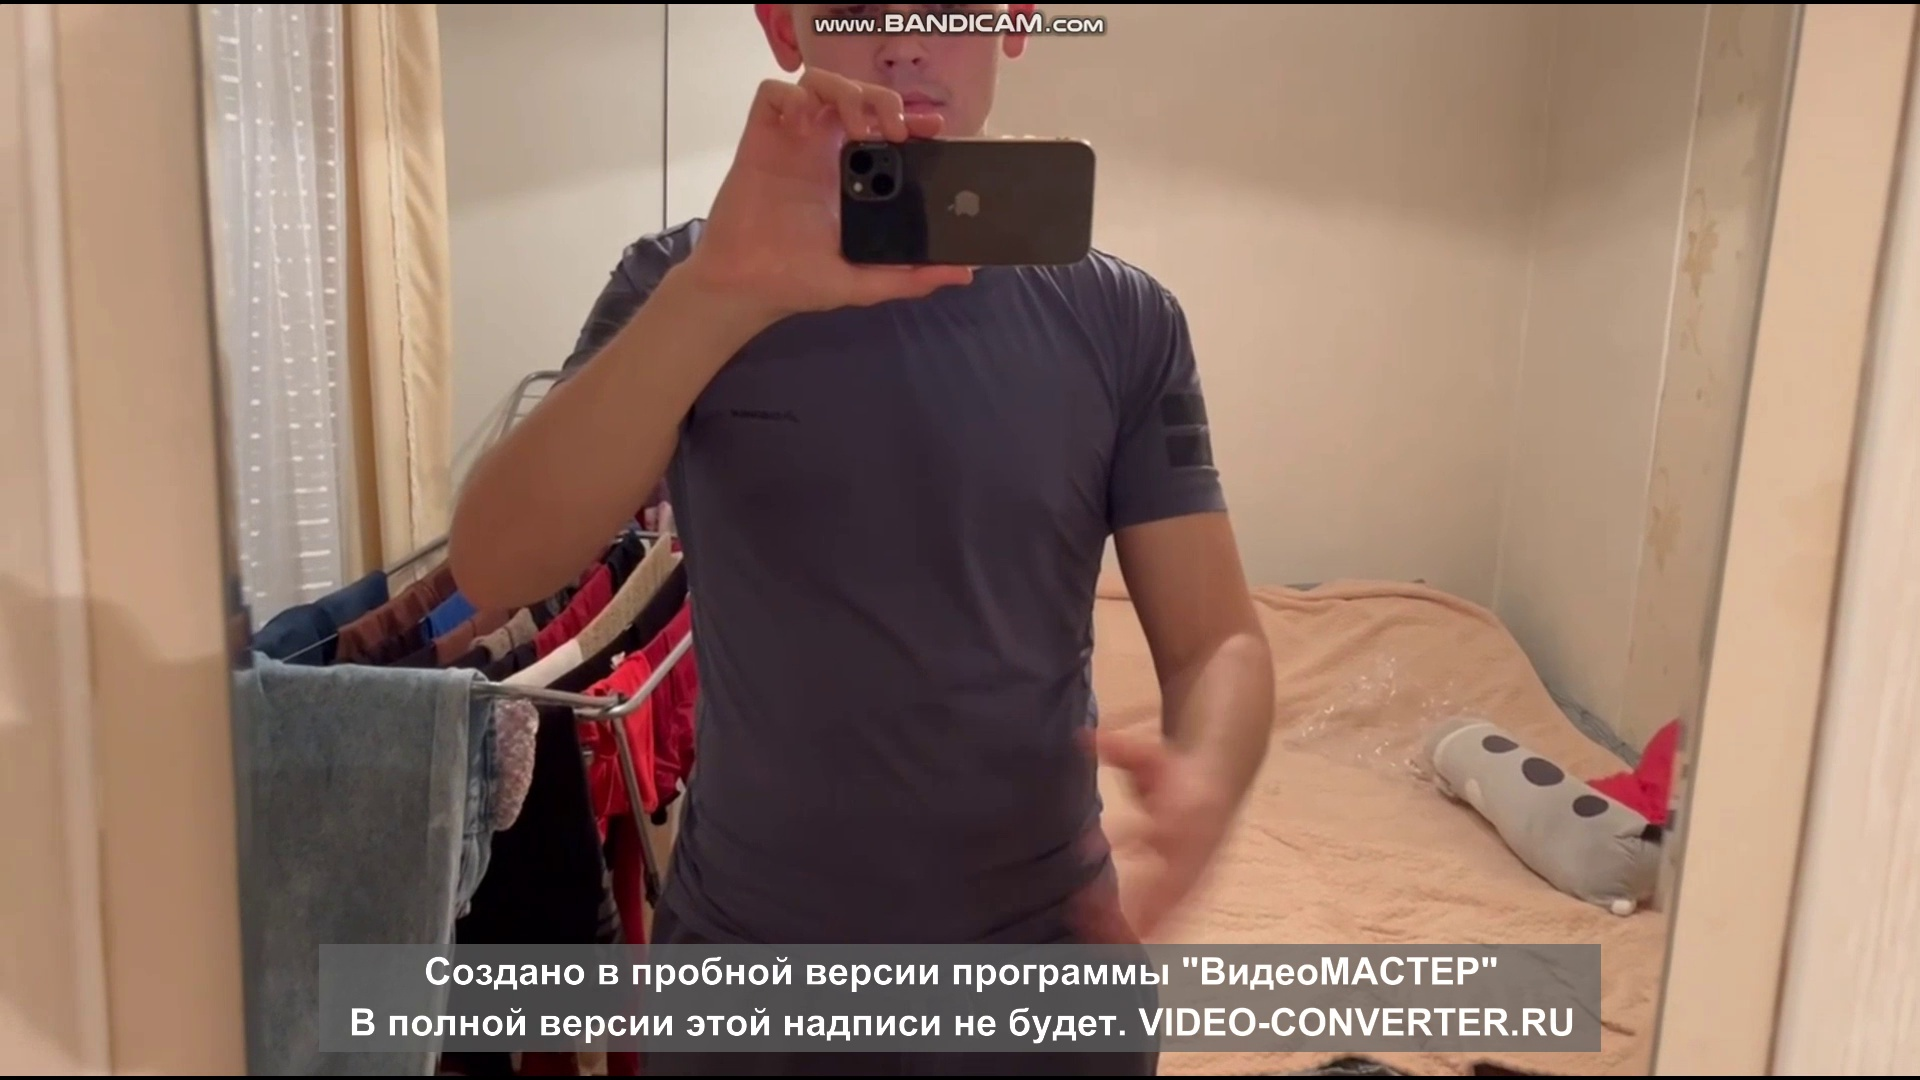Кисть: (1052, 724, 1238, 943)
